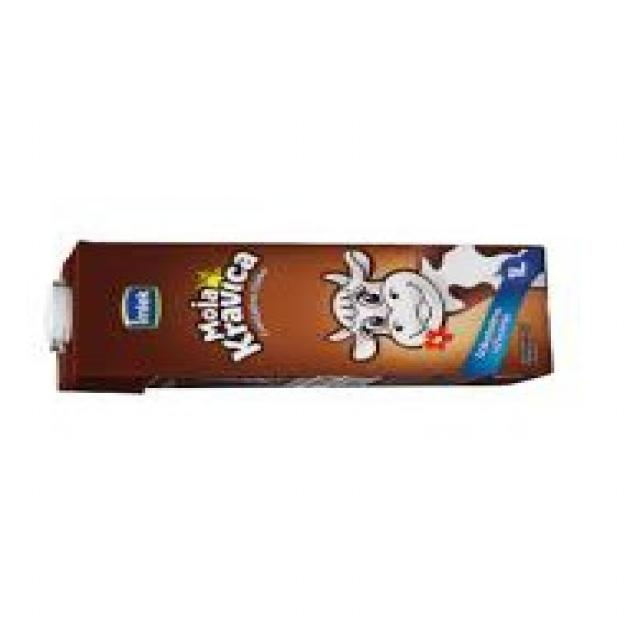non_white_jug: (44, 238, 559, 393)
